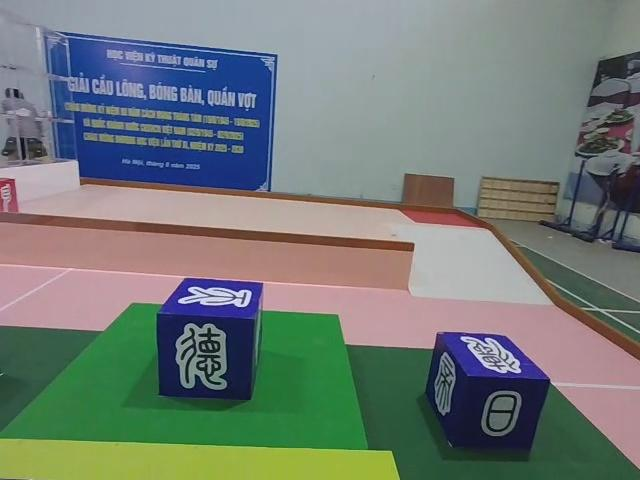R2 Fake Blue: (425, 332, 550, 453), (155, 278, 266, 401)
